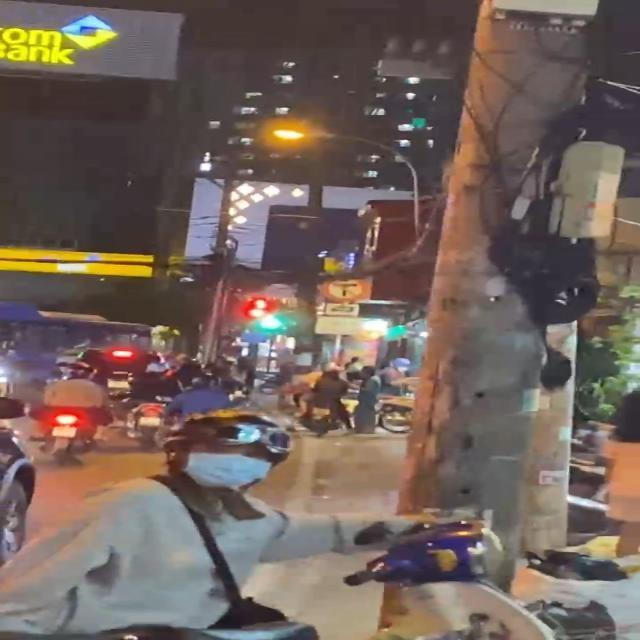137-cam-re-trai-va-re-phai: (320, 274, 368, 302)
